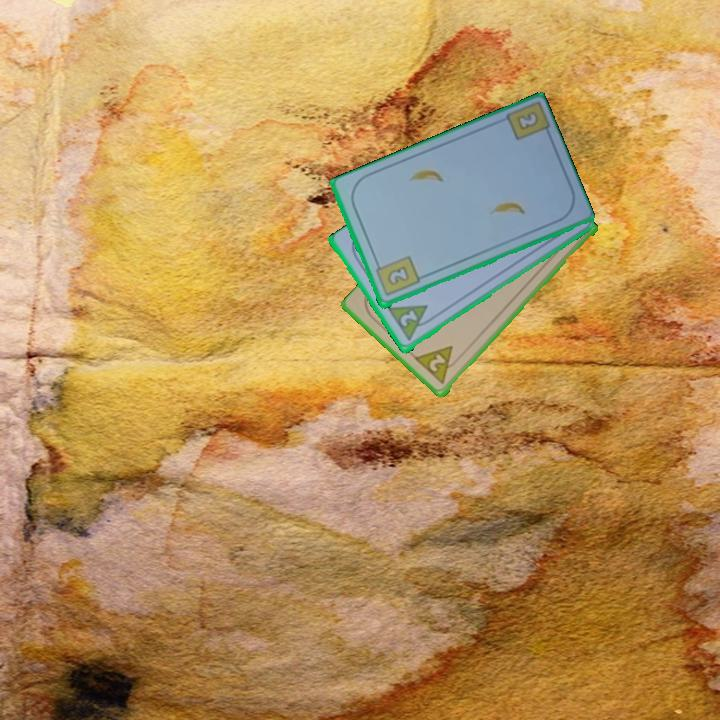2b: (372, 253, 422, 299), (513, 107, 541, 134)
2p: (412, 342, 464, 388), (385, 301, 437, 345)
